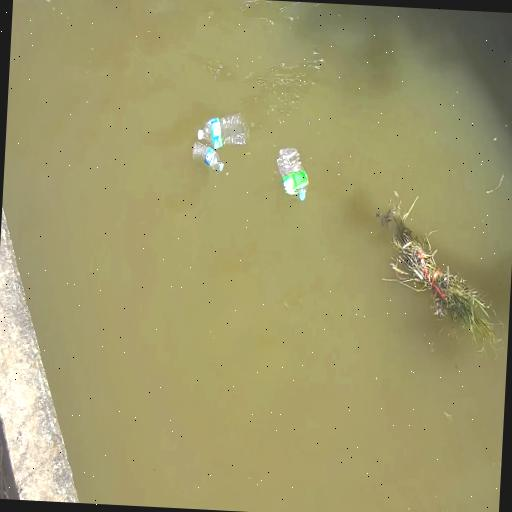plastic: (198, 114, 247, 150), (276, 148, 307, 200), (192, 143, 222, 172), (298, 189, 304, 201), (197, 130, 202, 140)
twig: (377, 198, 496, 343)
